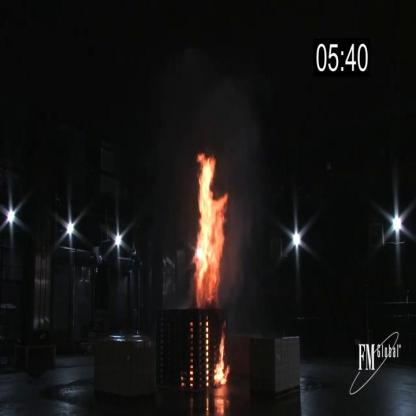fire: (190, 146, 228, 308), (207, 320, 230, 390)
